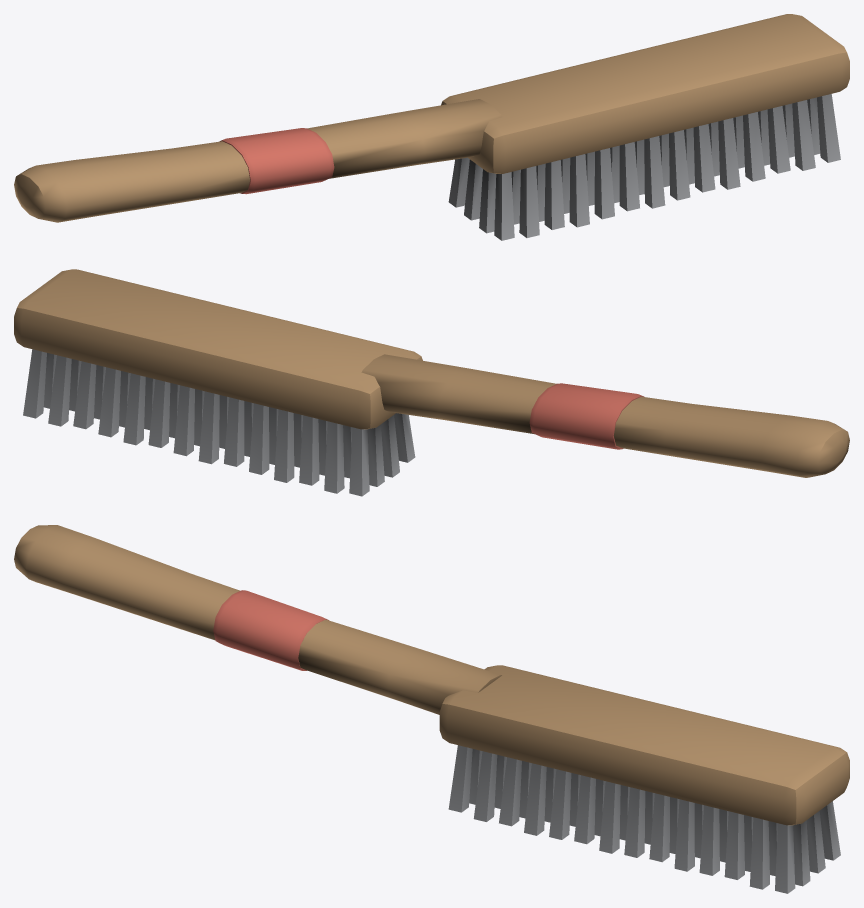
Rendered from brush.glb.
3 views of the same model, one above another, from view 1: azimuth 30°, elevation 25°; view 2: azimuth 150°, elevation 25°; view 3: azimuth 330°, elevation 25° (orthographic).
Visible parts, largest first — view 1: PART; view 2: PART; view 3: PART.
Part boxes in pixels (x1,y1,x2,y2): PART: (14, 14, 849, 240); PART: (14, 269, 849, 496); PART: (14, 525, 849, 893).
Bounding box in the file's own units: 0.2855 × 0.0547 × 0.036.
